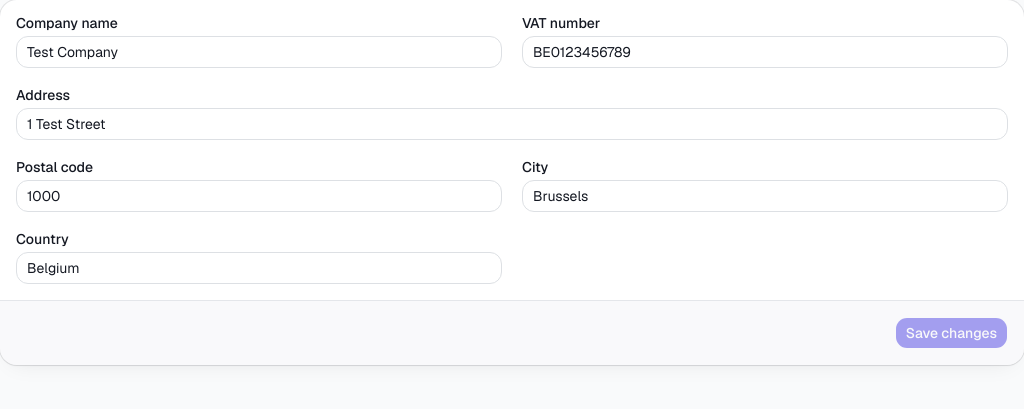
CompanyForm › shows a server validation error under the matching field
Step 1. Replace the text in the field labelled "VAT number" with "BE1999999999" → (765, 52), box [522,36,1008,68]
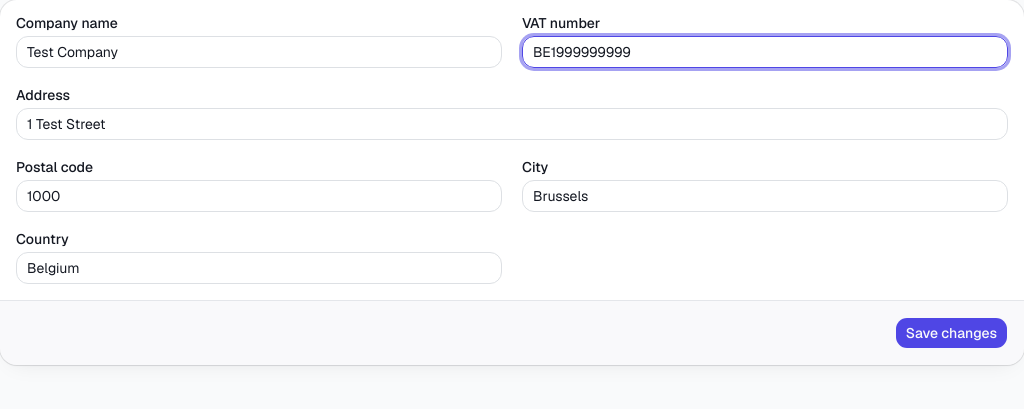
Step 2. Click the button "Save changes" → click(951, 333), box [895,317,1008,349]
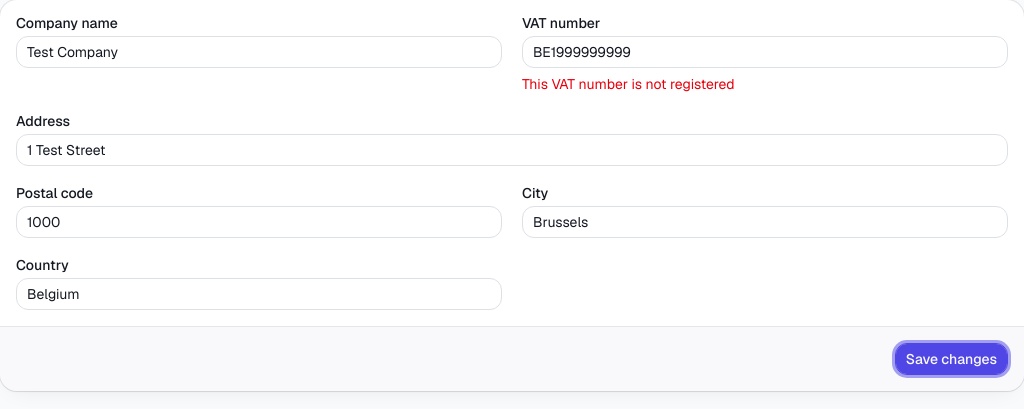
Now the text "This VAT number is not registered" is shown, box [522,75,735,93]
